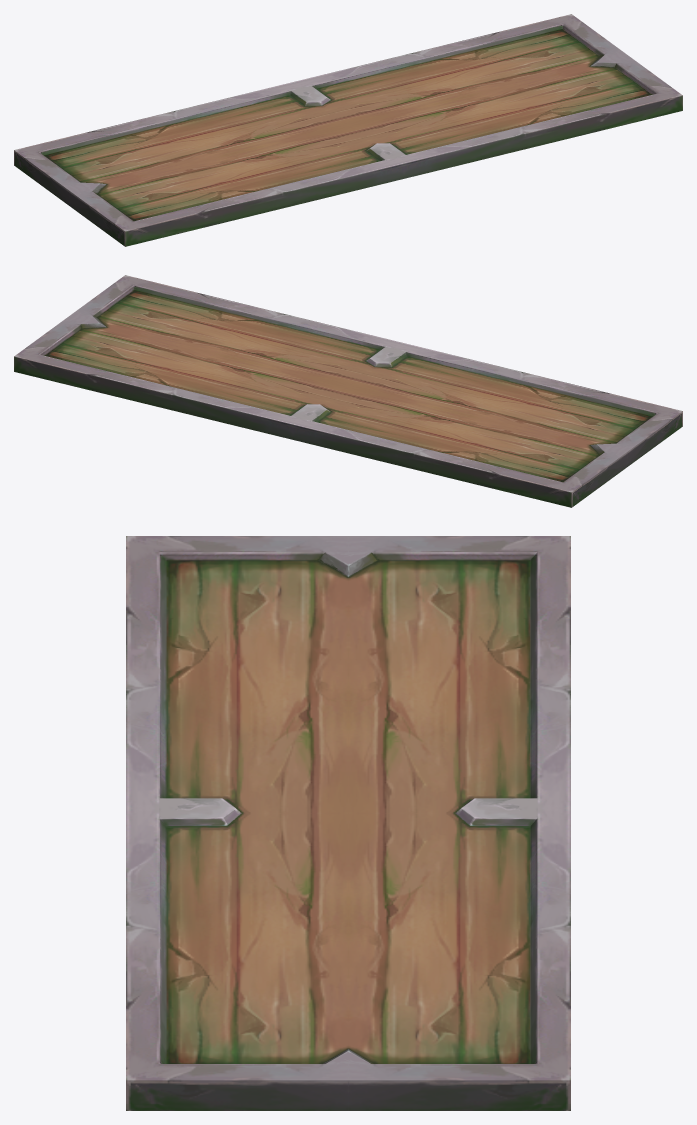
The model's file is map_1002_muban_05.FBX.
3 renders of one model, top to bottom at view 1: azimuth 30°, elevation 25°; view 2: azimuth 150°, elevation 25°; view 3: azimuth 270°, elevation 25°, orthographic. The views are drawn at different scales.
Visible parts, largest first — view 1: map_1002_muban_05; view 2: map_1002_muban_05; view 3: map_1002_muban_05.
Part boxes in pixels (<box>): map_1002_muban_05: <box>14,14,682,246</box>; map_1002_muban_05: <box>14,275,682,507</box>; map_1002_muban_05: <box>126,536,570,1110</box>.
Size of the model in its own units: 5.09 by 0.1335 by 1.76.
